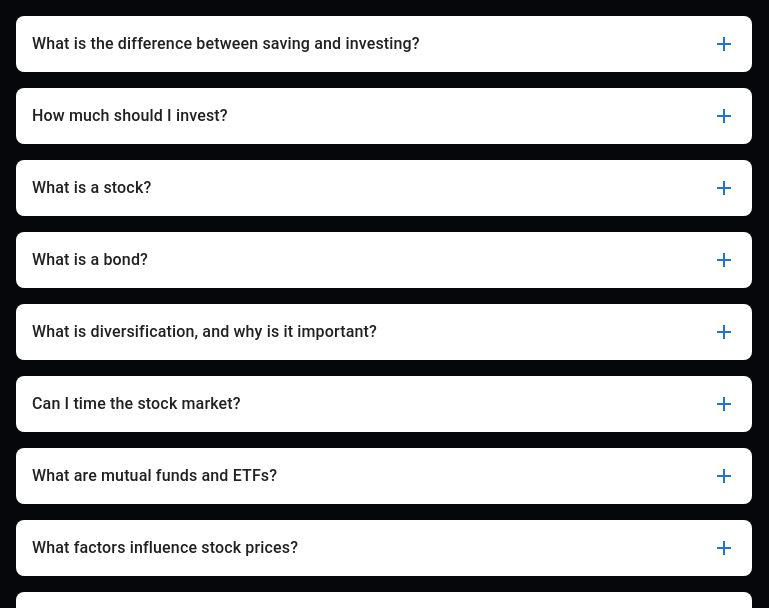
Scenario: FAQ Component › shows correct expand/collapse icons
The width and height of the screenshot is (769, 608).
Expected: the 1st icon with test id "AddIcon" is shown, [712,32,736,56]
Note: Click to expand
Click the text "What is a stock?" at {"x": 92, "y": 188}, box [32,178,151,197]
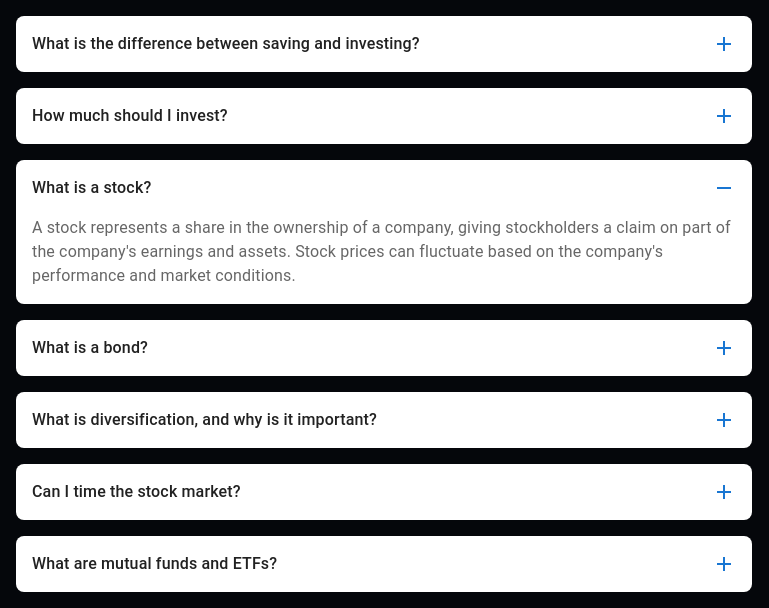
Expected: the icon with test id "RemoveIcon" is shown, [712,176,736,200]
